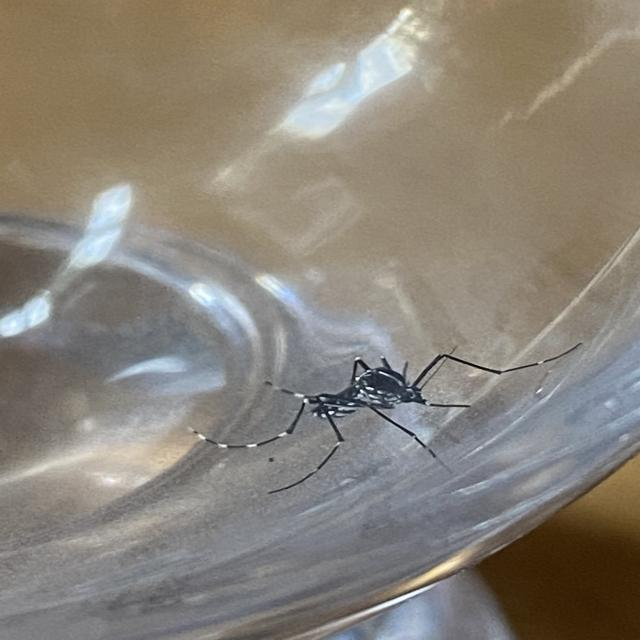albopictus: (192, 320, 572, 498)
